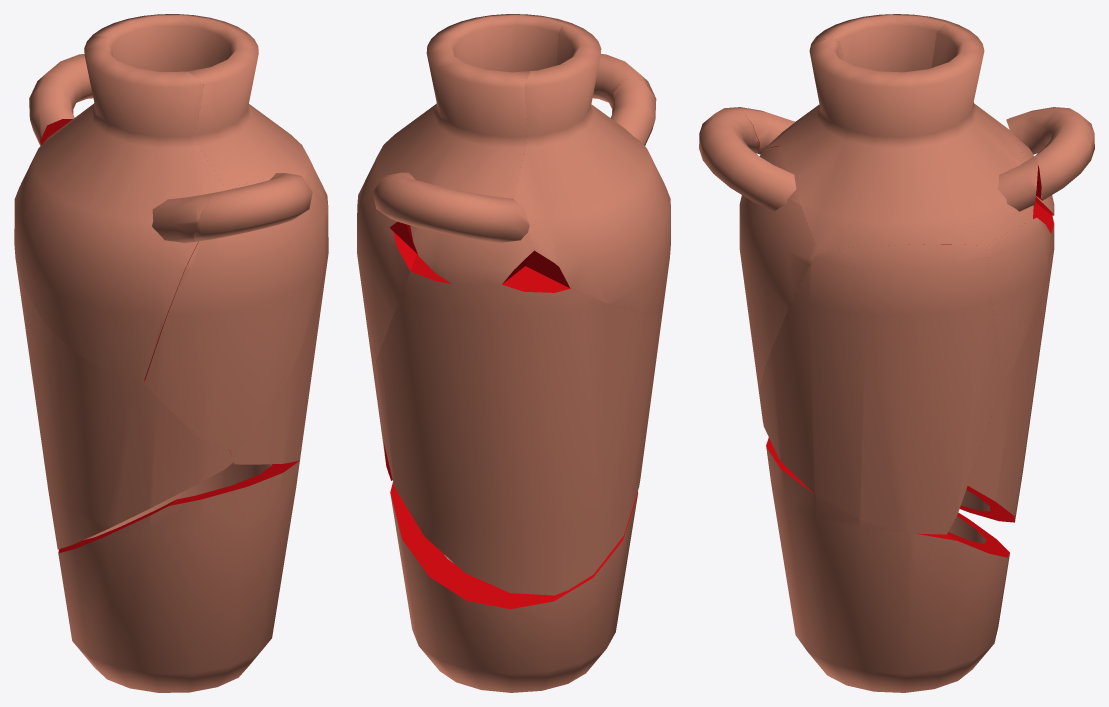
Rendered from ClayPot_07_destroyed 1.fbx.
The picture shows the model from 3 angles, left to right: view 1: azimuth 30°, elevation 25°; view 2: azimuth 150°, elevation 25°; view 3: azimuth 270°, elevation 25°; orthographic projection.
Parts seen in each view (by area): view 1: ClayPot_07_cell.011, ClayPot_07_cell.008, ClayPot_07_cell, ClayPot_07_cell.005, ClayPot_07_cell.009, ClayPot_07_cell.007, ClayPot_07_cell.013; view 2: ClayPot_07_cell.005, ClayPot_07_cell.011, ClayPot_07_cell.008, ClayPot_07_cell.009, ClayPot_07_cell.013, ClayPot_07_cell.012, ClayPot_07_cell, ClayPot_07_cell.007; view 3: ClayPot_07_cell.007, ClayPot_07_cell.009, ClayPot_07_cell.008, ClayPot_07_cell, ClayPot_07_cell.005, ClayPot_07_cell.011, ClayPot_07_cell.012, ClayPot_07_cell.013.
Part boxes in pixels (<box>): ClayPot_07_cell.011: <box>14,36,226,381</box>; ClayPot_07_cell.008: <box>58,460,299,692</box>; ClayPot_07_cell: <box>144,173,328,450</box>; ClayPot_07_cell.005: <box>14,231,233,549</box>; ClayPot_07_cell.009: <box>78,14,323,195</box>; ClayPot_07_cell.007: <box>230,182,328,464</box>; ClayPot_07_cell.013: <box>29,54,93,145</box>; ClayPot_07_cell.005: <box>376,254,662,595</box>; ClayPot_07_cell.011: <box>514,22,670,315</box>; ClayPot_07_cell.008: <box>390,482,637,692</box>; ClayPot_07_cell.009: <box>363,14,567,253</box>; ClayPot_07_cell.013: <box>373,174,534,285</box>; ClayPot_07_cell.012: <box>358,201,417,360</box>; ClayPot_07_cell: <box>592,54,654,112</box>; ClayPot_07_cell.007: <box>357,179,392,480</box>; ClayPot_07_cell.007: <box>759,244,1002,534</box>; ClayPot_07_cell.009: <box>779,24,1037,250</box>; ClayPot_07_cell.008: <box>766,437,1009,692</box>; ClayPot_07_cell: <box>699,107,817,393</box>; ClayPot_07_cell.005: <box>959,202,1054,522</box>; ClayPot_07_cell.011: <box>732,14,965,154</box>; ClayPot_07_cell.012: <box>986,217,1051,385</box>; ClayPot_07_cell.013: <box>1006,107,1094,215</box>.
Bounding box in the file's own units: 27.91 × 60.32 × 35.12.
